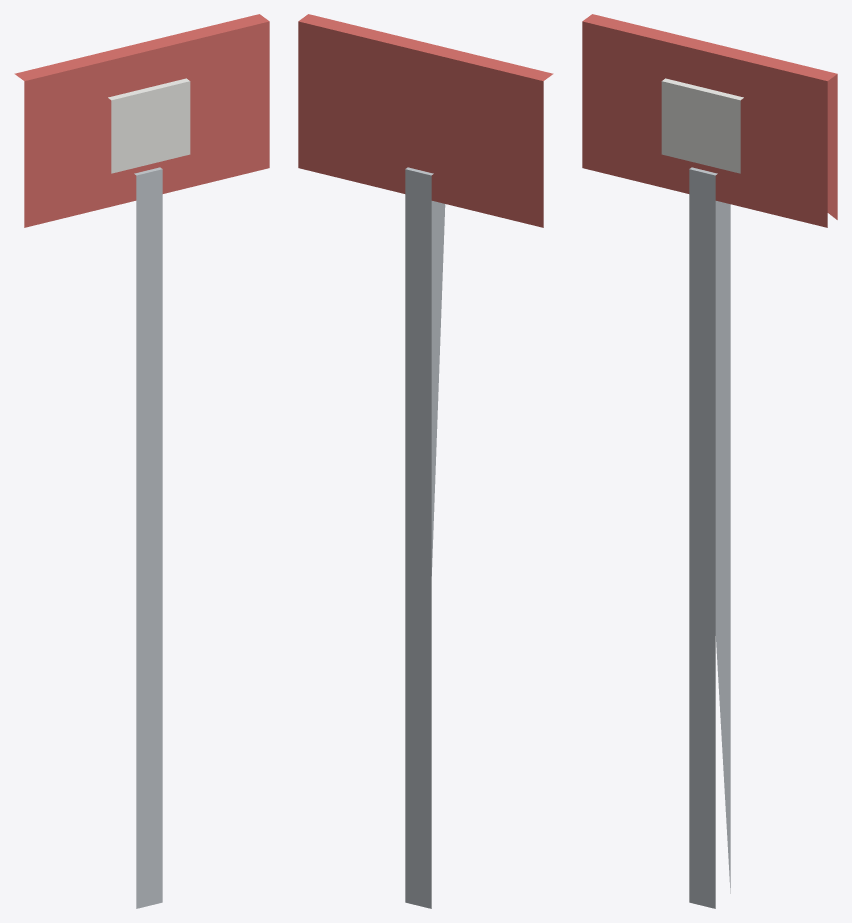
Rendered from fire-sign.glb.
3 renders of one model, left to right at view 1: azimuth 30°, elevation 25°; view 2: azimuth 150°, elevation 25°; view 3: azimuth 330°, elevation 25°, orthographic.
Size of the model in its own units: 0.56 by 1.86 by 0.065.
